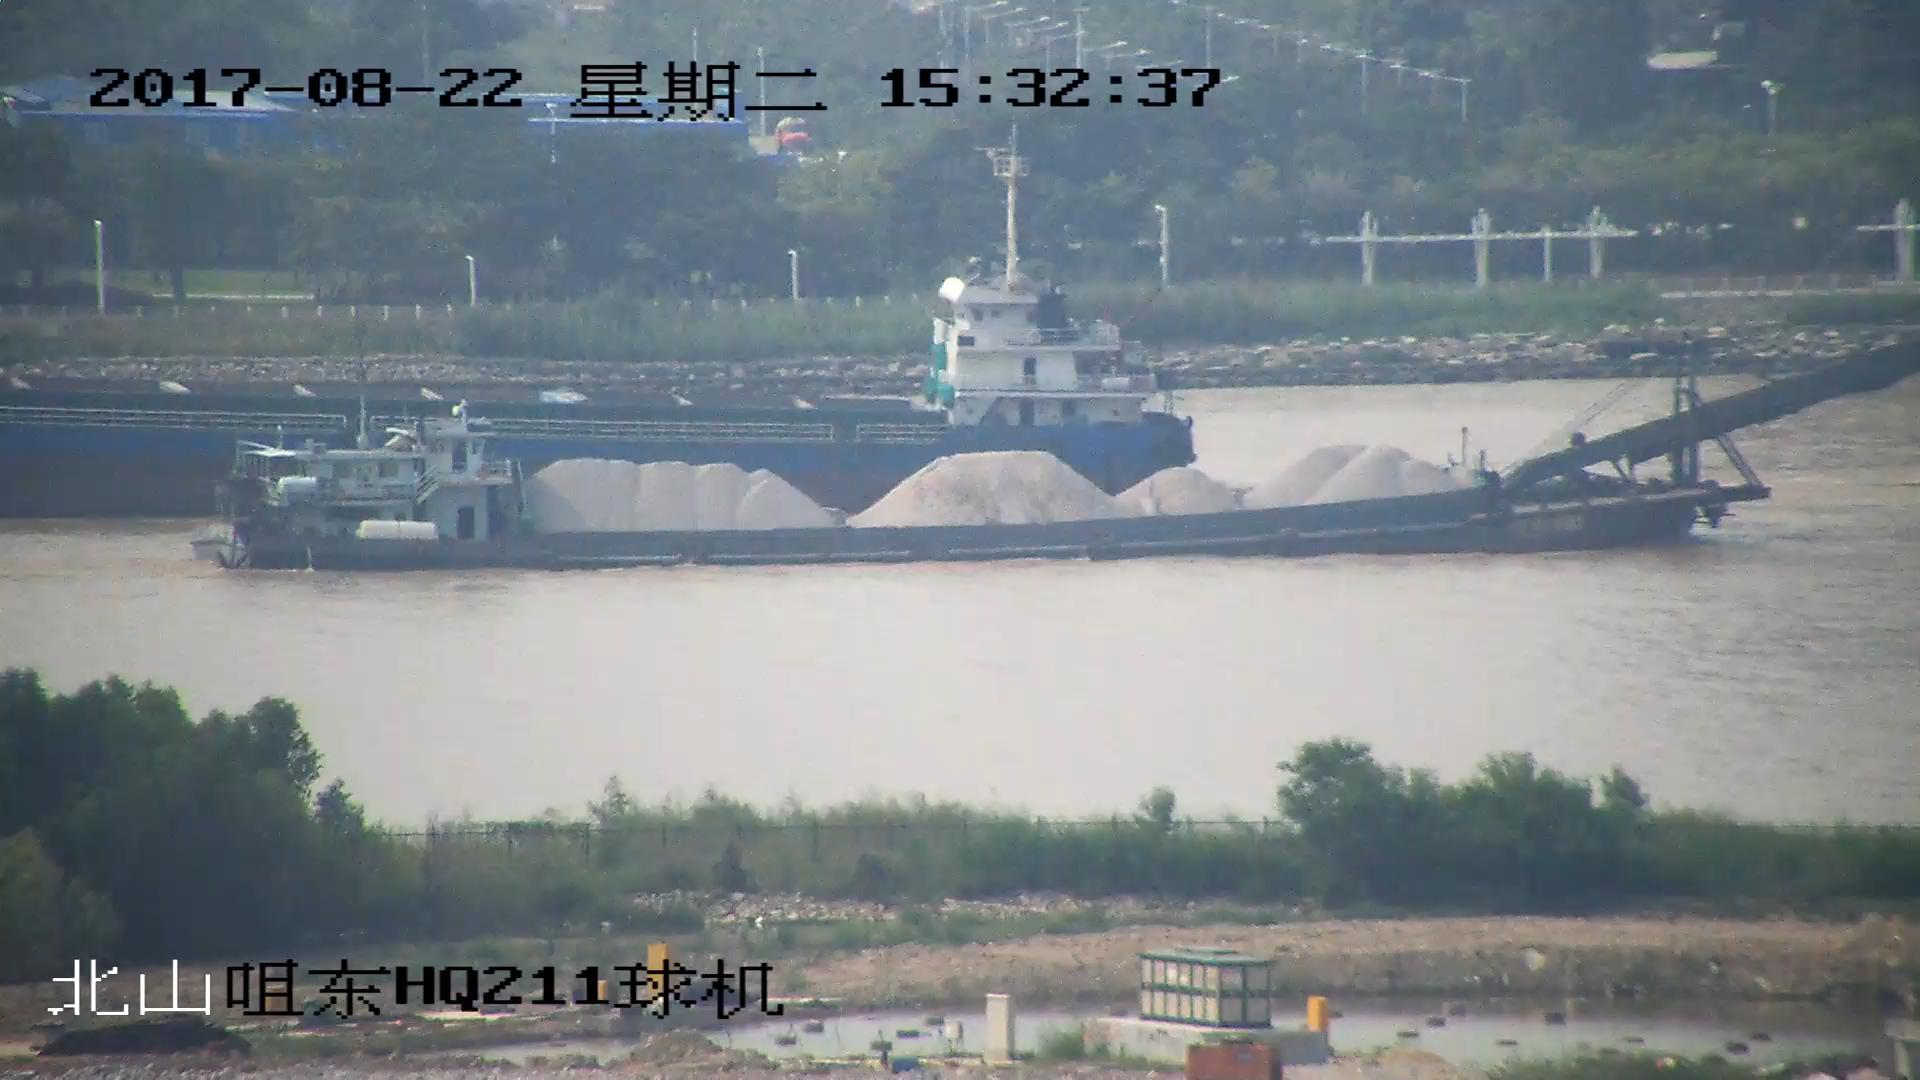Ship: (3, 142, 1200, 504), (203, 347, 1920, 574)
